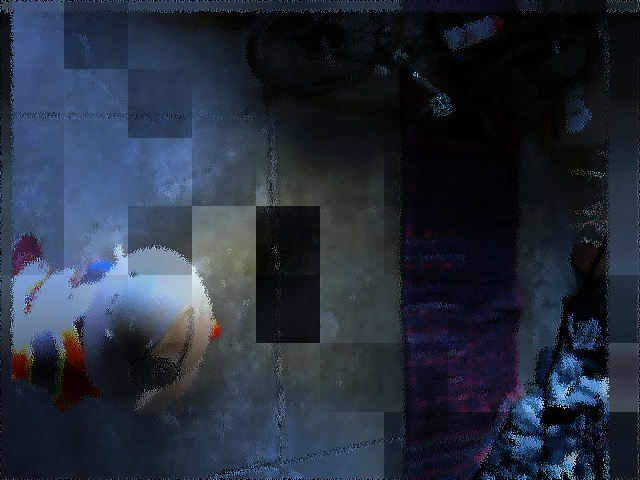three: (132, 353, 179, 390)
